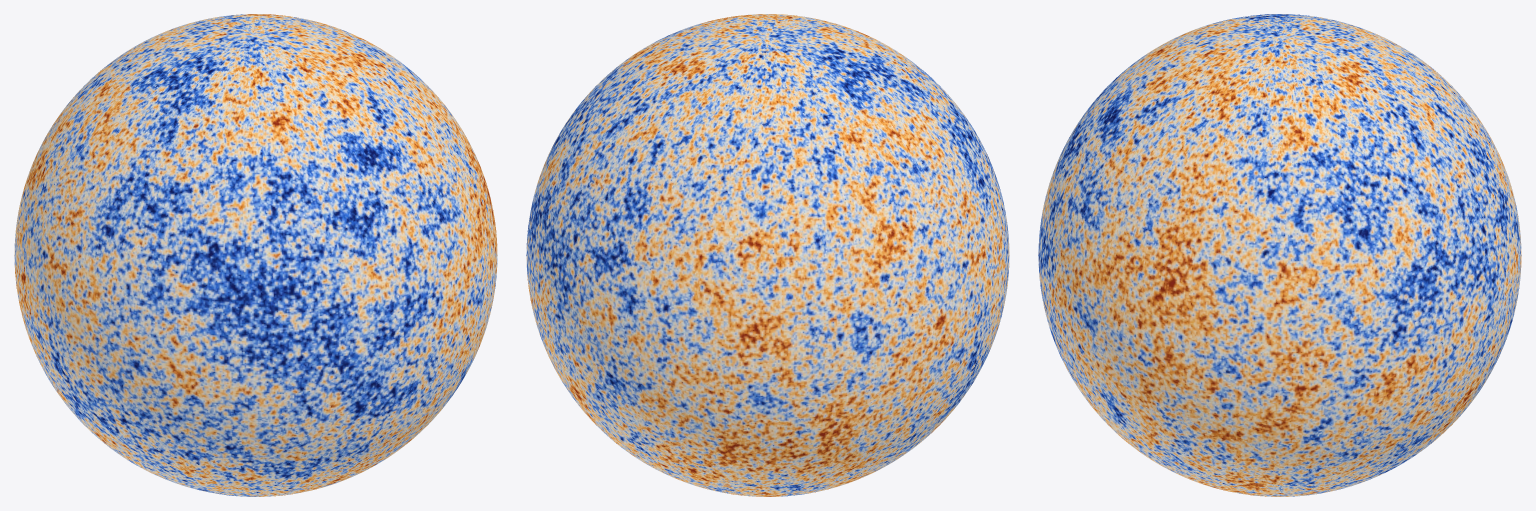
File: luz-fossil-m.glb
3 renders of one model, left to right at view 1: azimuth 30°, elevation 25°; view 2: azimuth 150°, elevation 25°; view 3: azimuth 270°, elevation 25°, orthographic.
Parts seen in each view (by area): view 1: cmb; view 2: cmb; view 3: cmb.
Part boxes in pixels (left/top/right/bottom): cmb: left=14, top=14, right=497, bottom=496; cmb: left=526, top=14, right=1009, bottom=496; cmb: left=1038, top=14, right=1521, bottom=496.
Bounding box in the file's own units: 20 × 20 × 20.
1 material, 1 textured.
